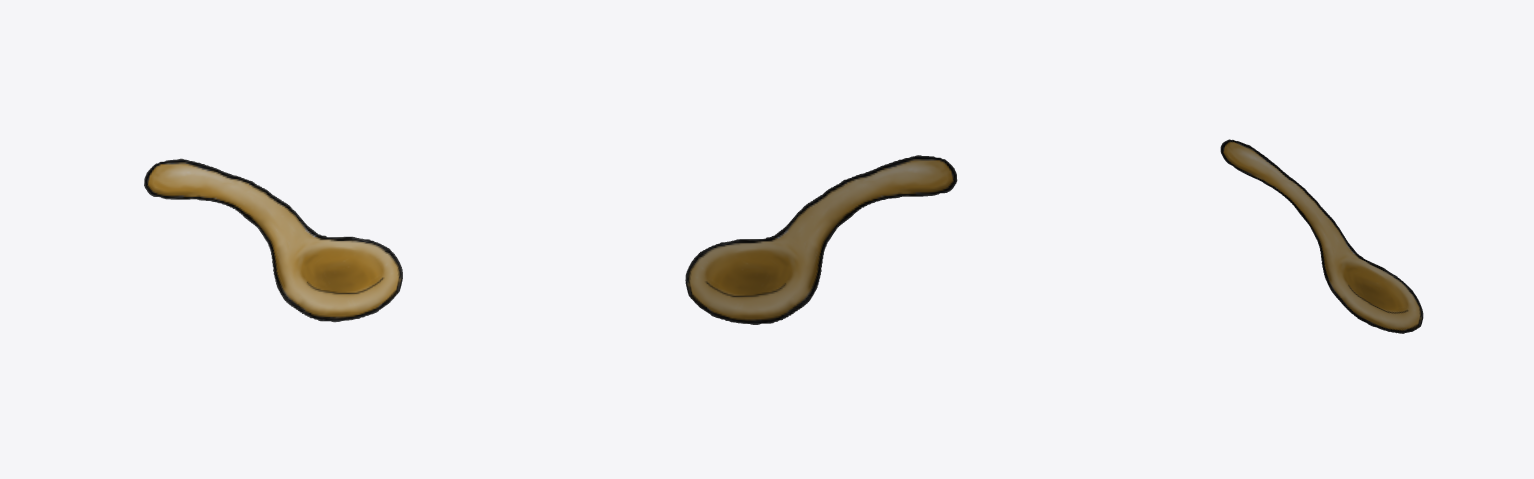
The model's file is spoon.FBX.
3 renders of one model, left to right at view 1: azimuth 30°, elevation 25°; view 2: azimuth 150°, elevation 25°; view 3: azimuth 330°, elevation 25°, orthographic. The views are drawn at different scales.
Parts seen in each view (by area): view 1: Plane001; view 2: Plane001; view 3: Plane001.
Boxes of the visible parts, left/top/right/bottom form: Plane001: left=144, top=158, right=402, bottom=322; Plane001: left=685, top=155, right=957, bottom=324; Plane001: left=1220, top=139, right=1423, bottom=333.
Bounding box in the file's own units: 32.32 × 31 × 1.03.
Materials: 1 (1 with a texture image).
